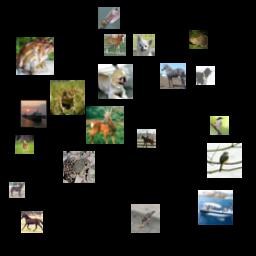bird: (207, 143, 242, 178), (131, 204, 160, 233), (210, 116, 229, 135)
deer: (86, 106, 124, 144), (15, 135, 34, 154)
dog: (98, 64, 133, 99), (133, 34, 155, 56), (196, 66, 215, 85)
frog: (16, 37, 54, 75), (50, 80, 85, 115), (63, 151, 95, 183), (189, 30, 208, 49)
ship: (198, 190, 233, 225), (19, 99, 48, 128), (98, 7, 120, 29)
